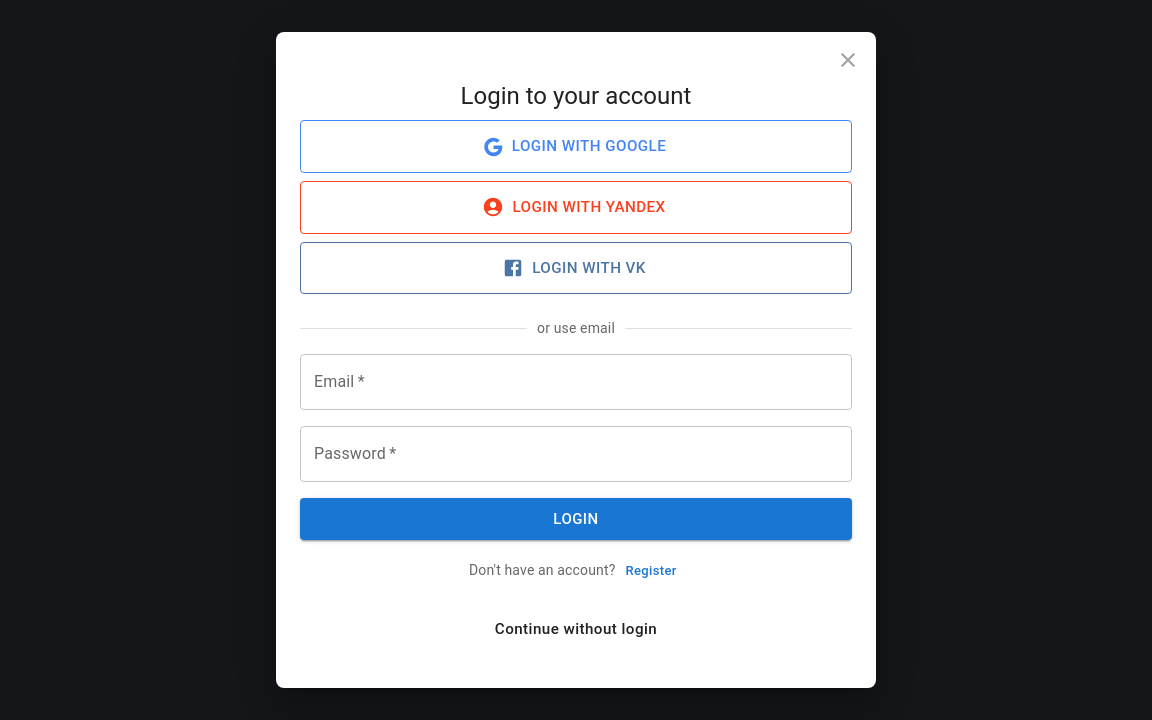
Test case: AuthModal › Login Mode › switches to register mode when register link is clicked
Click the button with aria-label "Switch to Register form". click: (651, 572)
box: top-left (619, 556), bottom-right (683, 587)
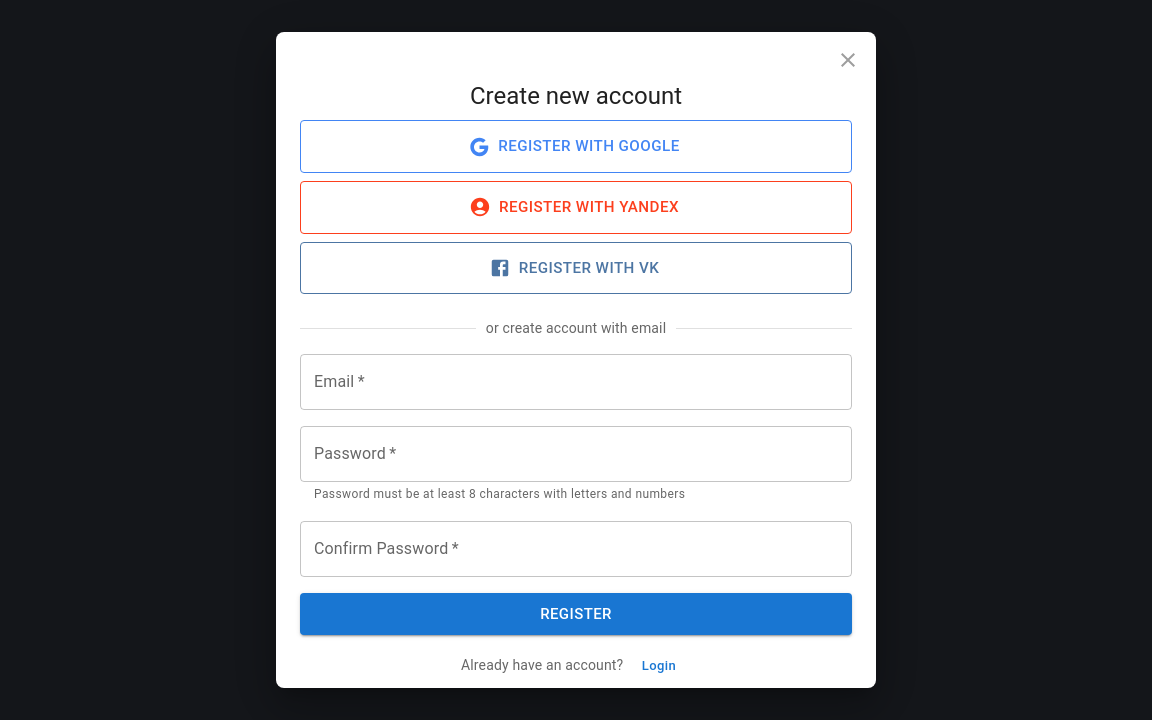
Check: the heading "Create new account" is shown, box top-left (470, 82), bottom-right (682, 110)
